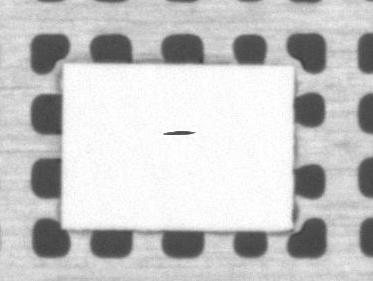DIE_INK: (214, 97, 261, 102)
